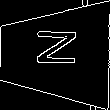N_W: (30, 33, 79, 75)
